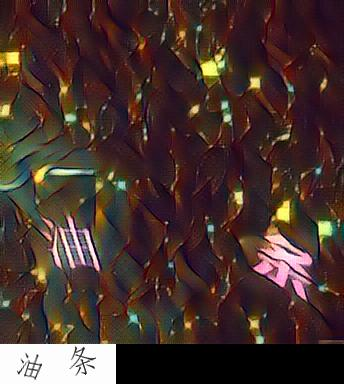character: (248, 230, 319, 305), (35, 212, 104, 274)
